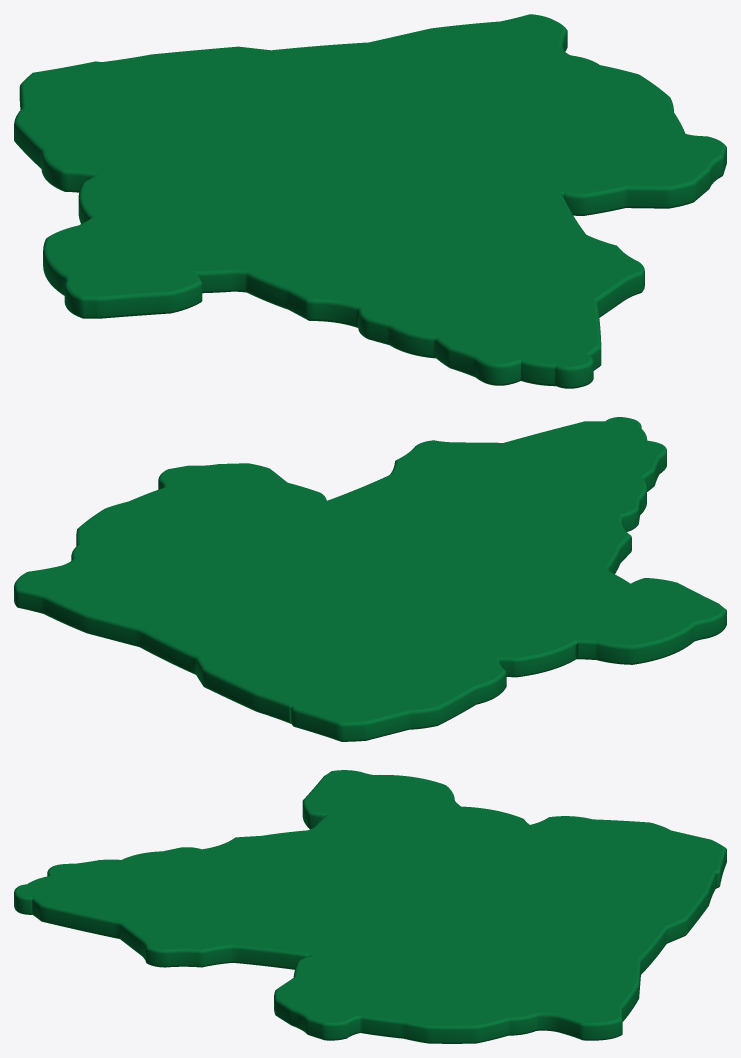
Rendered from chequilla.glb.
3 views of the same model, one above another, from view 1: azimuth 30°, elevation 25°; view 2: azimuth 150°, elevation 25°; view 3: azimuth 270°, elevation 25° (orthographic). The views are drawn at different scales.
Parts seen in each view (by area): view 1: node_id3; view 2: node_id3; view 3: node_id3.
Boxes of the visible parts, x1,y1,x2,y2 form: node_id3: (14, 14, 726, 388); node_id3: (14, 417, 726, 741); node_id3: (14, 770, 726, 1043).
Size of the model in its own units: 0.512 by 0.0164 by 0.5974.
1 material, 1 textured.
